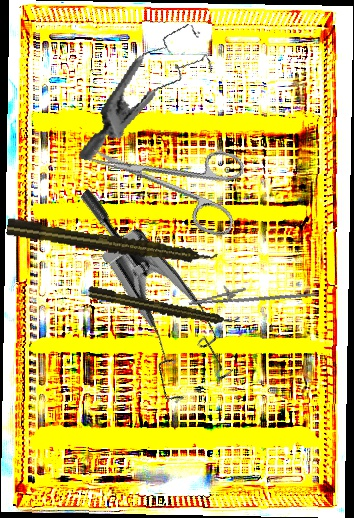Handpiece: (5, 216, 219, 270), (85, 284, 241, 331)
Iris Scissors: (79, 112, 253, 240)
Needle Holder: (186, 268, 316, 321)
Speculum: (15, 185, 265, 422), (78, 7, 221, 183)
